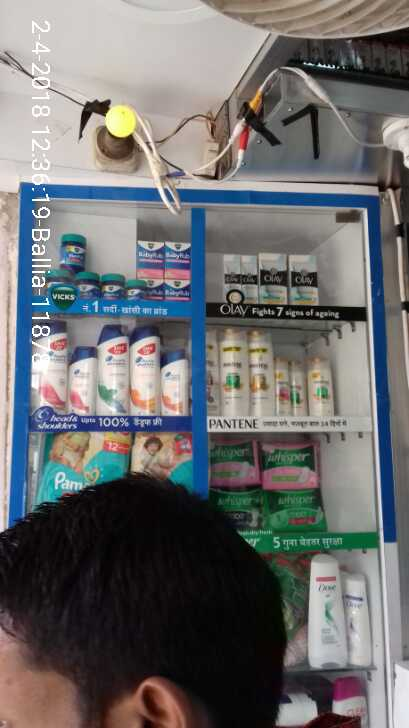vicks: (43, 234, 190, 300)
